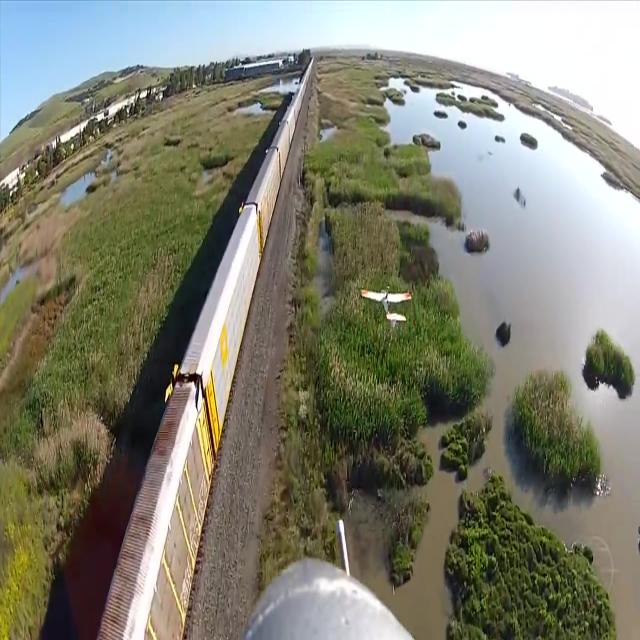iha: (360, 285, 412, 330)
